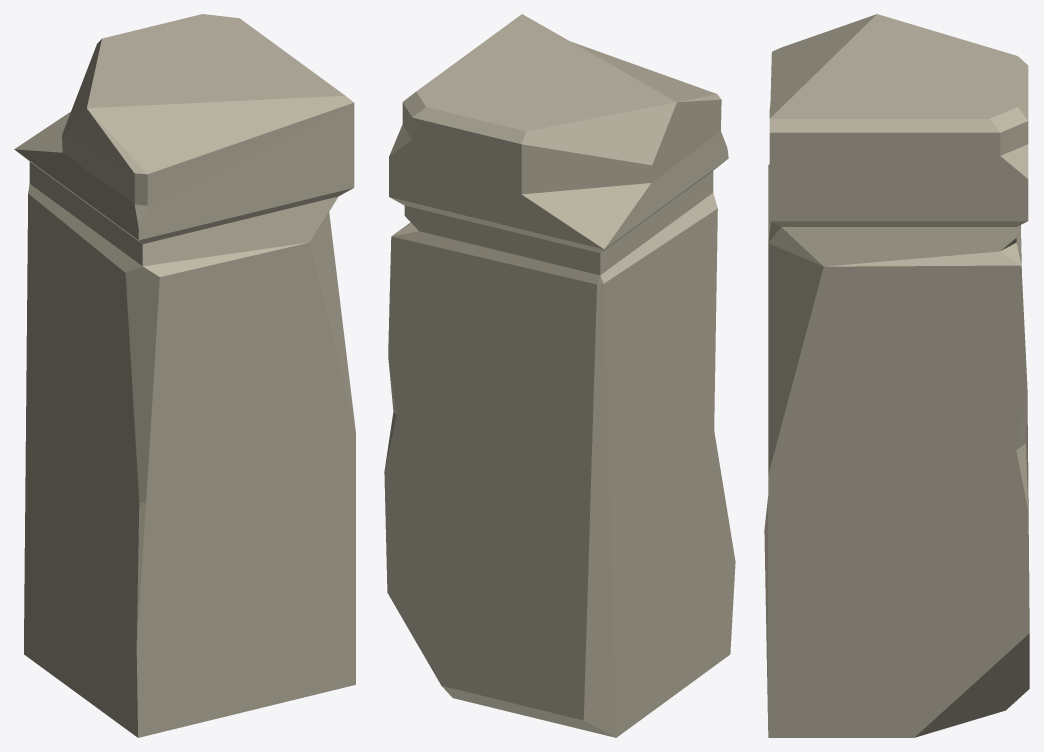
File: column_4_2.fbx
3 views of the same model, side by side, from view 1: azimuth 30°, elevation 25°; view 2: azimuth 150°, elevation 25°; view 3: azimuth 270°, elevation 25° (orthographic). The views are drawn at different scales.
Visible parts, largest first — view 1: column_4_2; view 2: column_4_2; view 3: column_4_2.
Part boxes in pixels (x1,y1,x2,y2): column_4_2: (14,14,355,737); column_4_2: (384,14,735,737); column_4_2: (764,14,1029,737).
Size of the model in its own units: 2.06 by 5.19 by 2.03.
